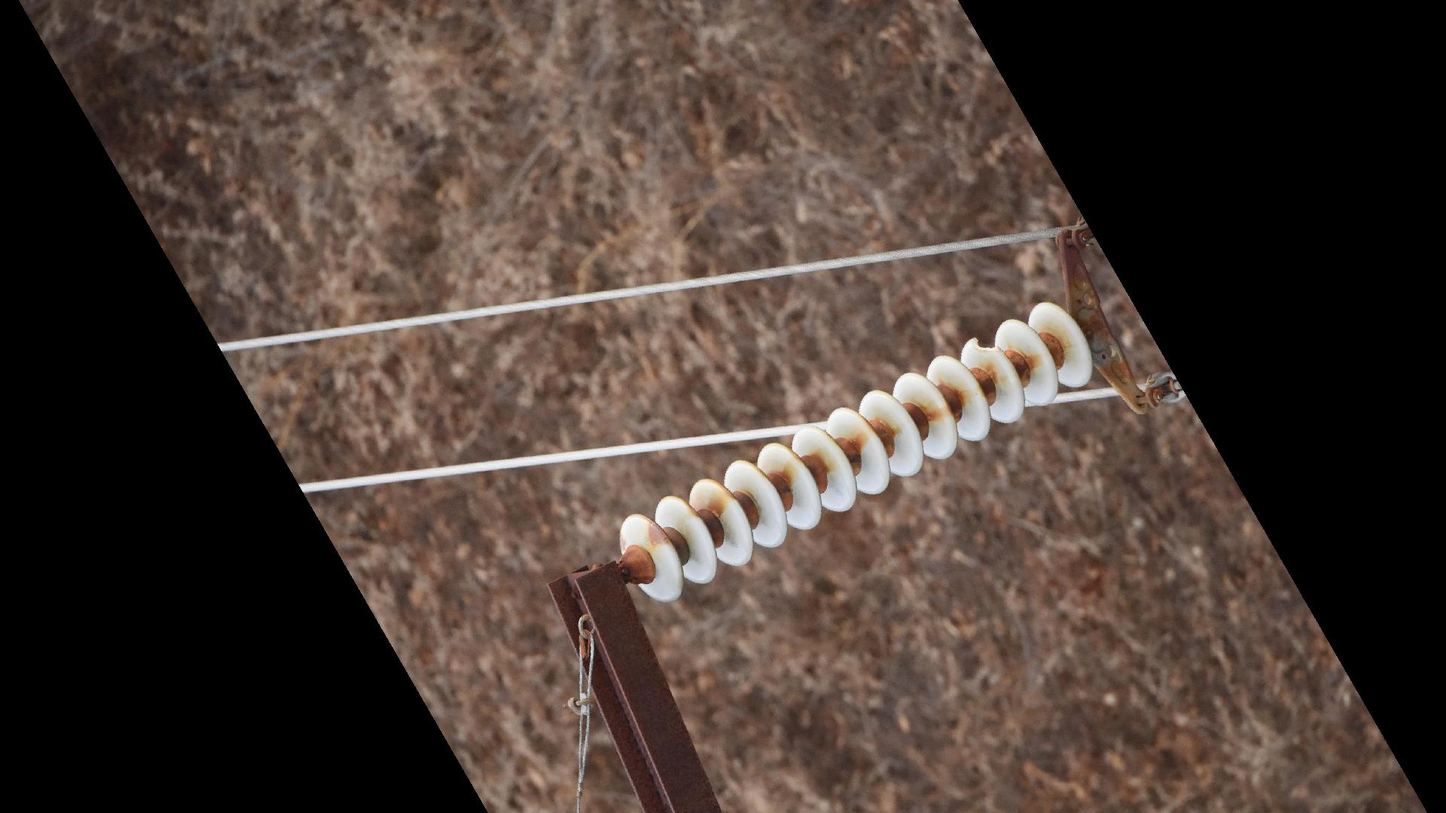insulator: (613, 297, 1100, 607)
insulator_breakage: (962, 334, 1008, 361)
